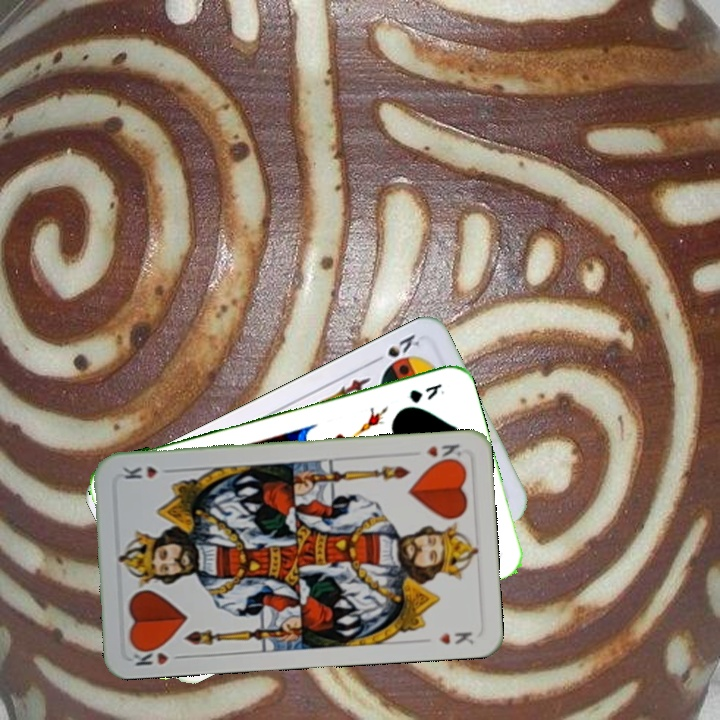GK: (405, 379, 447, 405)
HK: (129, 641, 188, 669), (422, 440, 464, 460)
SK: (368, 330, 423, 366)
